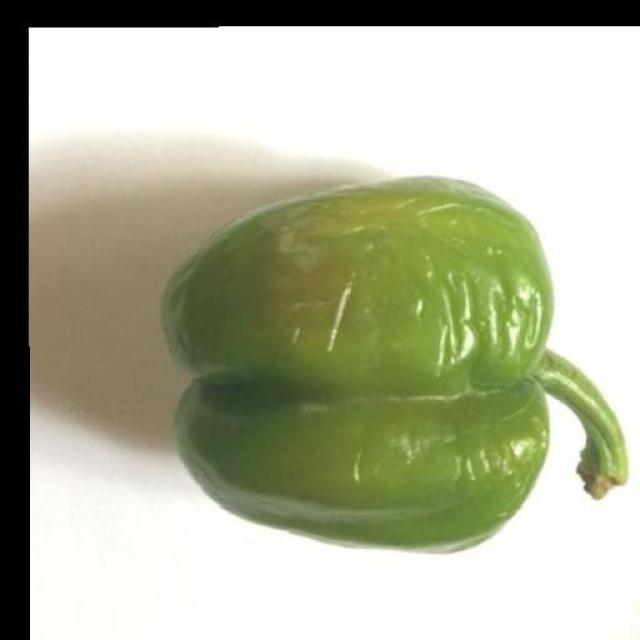Stale_Capsicum: (135, 207, 640, 579)
